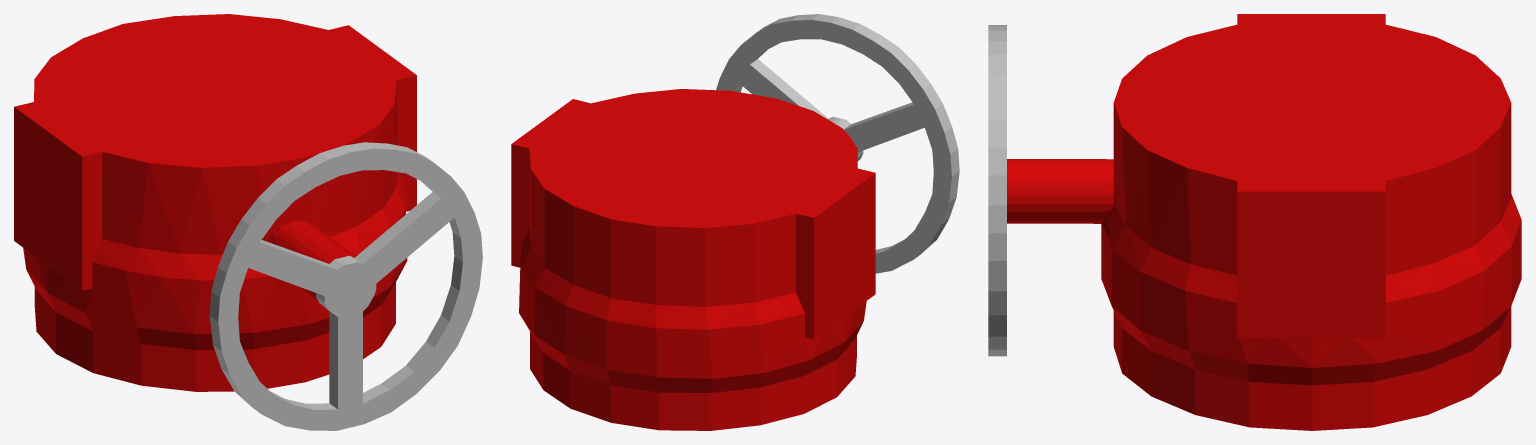
The picture shows the model from 3 angles, left to right: view 1: azimuth 30°, elevation 25°; view 2: azimuth 150°, elevation 25°; view 3: azimuth 270°, elevation 25°; orthographic projection. The views are drawn at different scales.
Size of the model in its own units: 0.2574 by 0.2433 by 0.3265.
